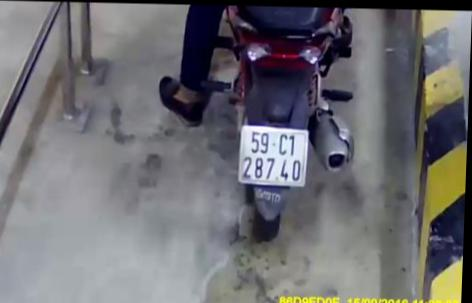LP: (235, 123, 314, 190)
